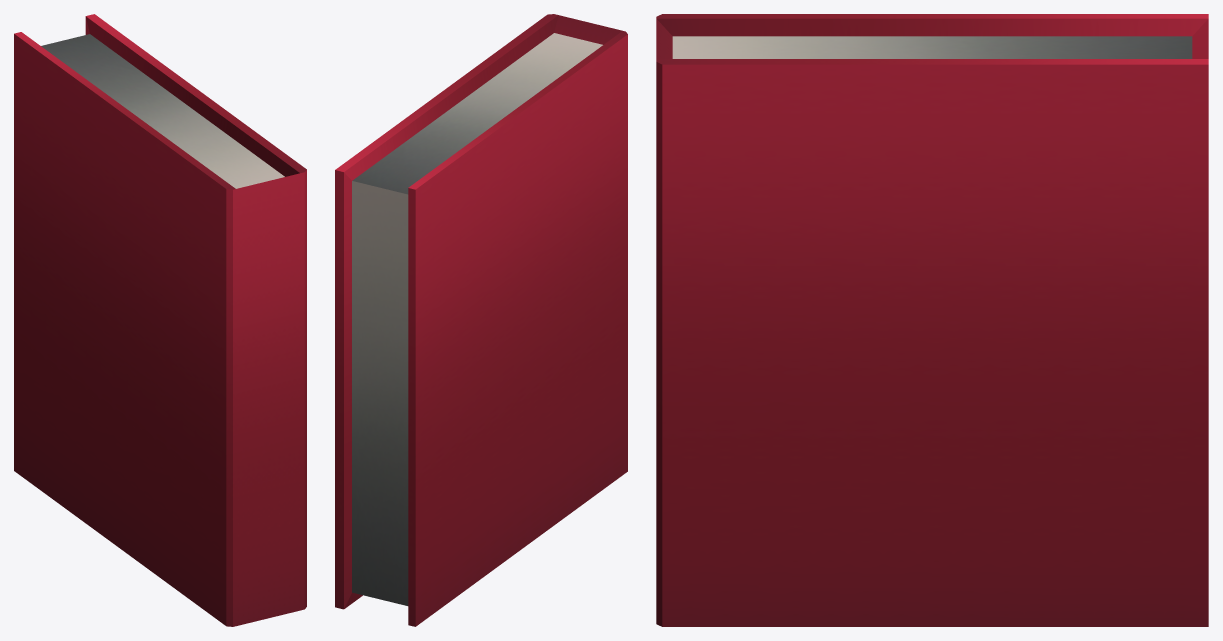
File: propBook2_mesh.fbx
The picture shows the model from 3 angles, left to right: view 1: azimuth 30°, elevation 25°; view 2: azimuth 150°, elevation 25°; view 3: azimuth 270°, elevation 25°; orthographic projection. The views are drawn at different scales.
Visible parts, largest first — view 1: book2; view 2: book2; view 3: book2.
Part boxes in pixels (<box>): book2: <box>14,14,306,626</box>; book2: <box>335,14,627,626</box>; book2: <box>656,14,1208,626</box>.
Bounding box in the file's own units: 0.0674 × 0.3499 × 0.3113.
